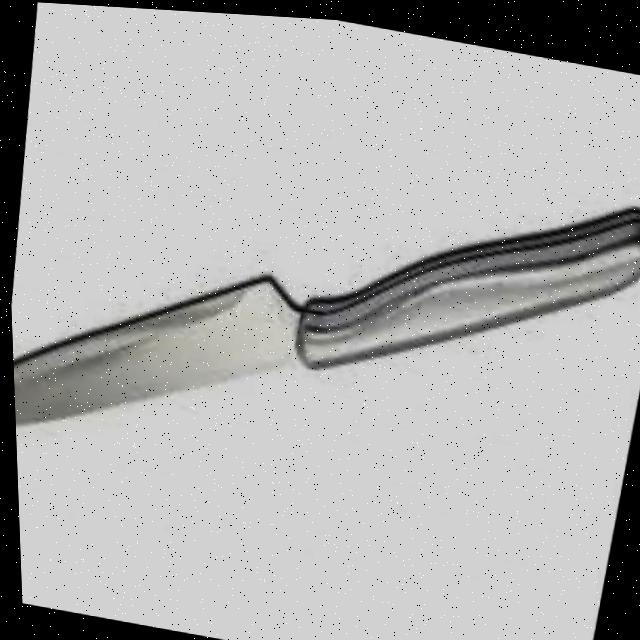knife: (3, 95, 640, 548)
